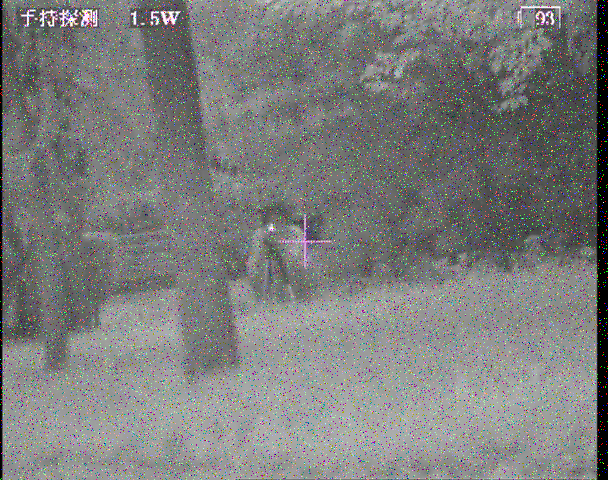my: (265, 222, 278, 234)
